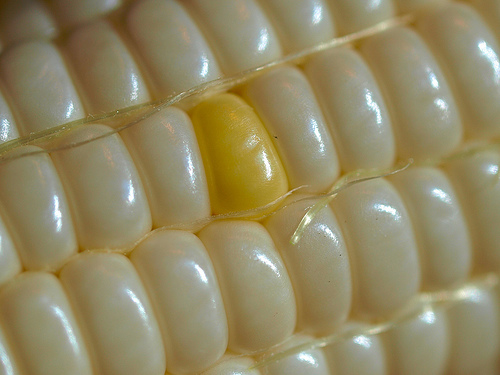corn: (1, 0, 498, 373)
